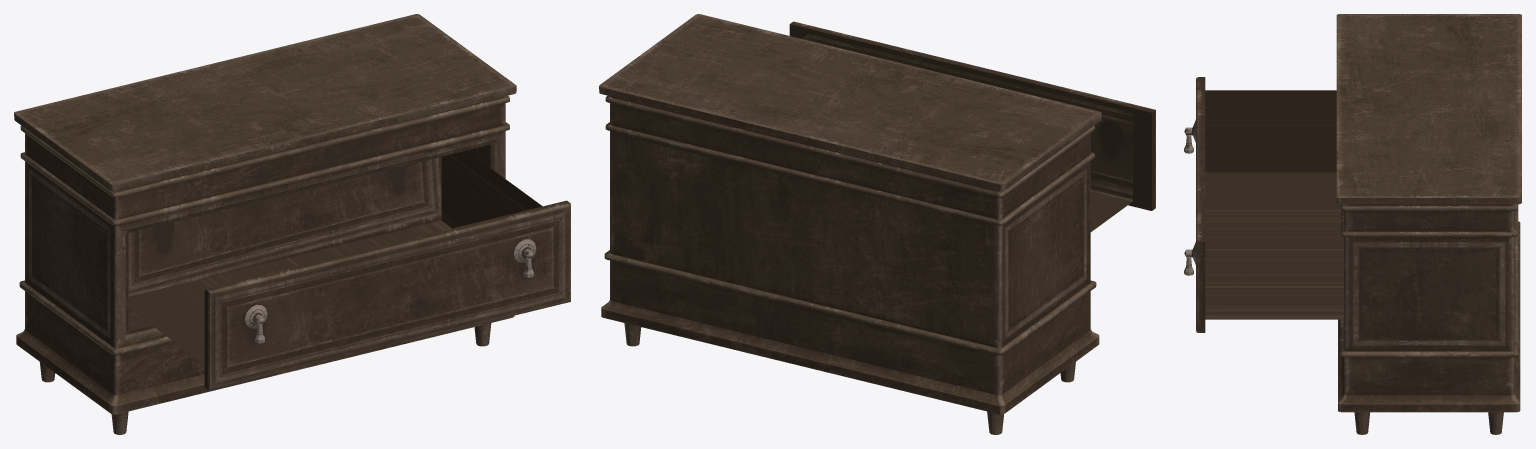
File: cajonera.FBX
3 renders of one model, left to right at view 1: azimuth 30°, elevation 25°; view 2: azimuth 150°, elevation 25°; view 3: azimuth 270°, elevation 25°, orthographic. The views are drawn at different scales.
Parts seen in each view (by area): view 1: polySurface1240, frontal, CajonFrontal; view 2: polySurface1240, frontal, CajonFrontal; view 3: polySurface1240, CajonFrontal, frontal.
Boxes of the visible parts, x1=… form: polySurface1240: x1=14, y1=14, x2=516, y2=434; frontal: x1=204, y1=200, x2=570, y2=389; CajonFrontal: x1=128, y1=150, x2=542, y2=363; polySurface1240: x1=599, y1=14, x2=1101, y2=434; frontal: x1=789, y1=21, x2=1155, y2=210; CajonFrontal: x1=802, y1=34, x2=1132, y2=231; polySurface1240: x1=1336, y1=14, x2=1521, y2=434; CajonFrontal: x1=1205, y1=90, x2=1343, y2=319; frontal: x1=1184, y1=77, x2=1205, y2=332.
Size of the model in its own units: 180 by 111 by 139.
